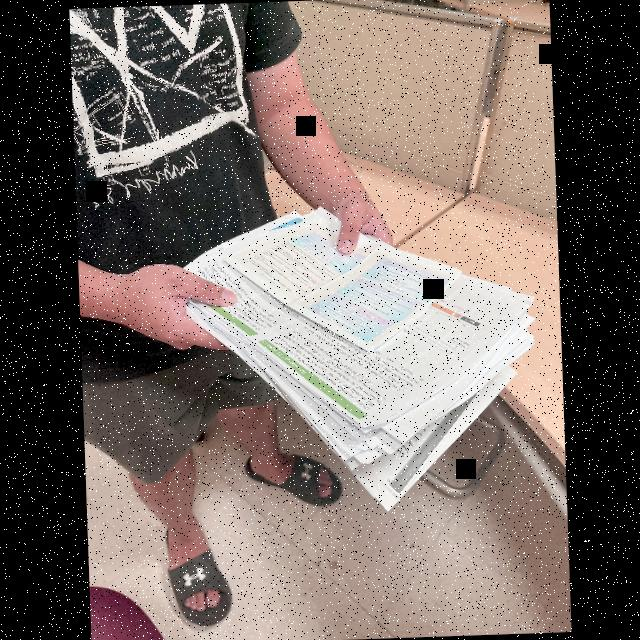reuseable_paper: (165, 189, 545, 521)
